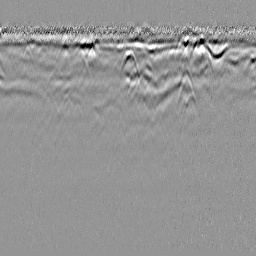cavity: (118, 48, 139, 76)
